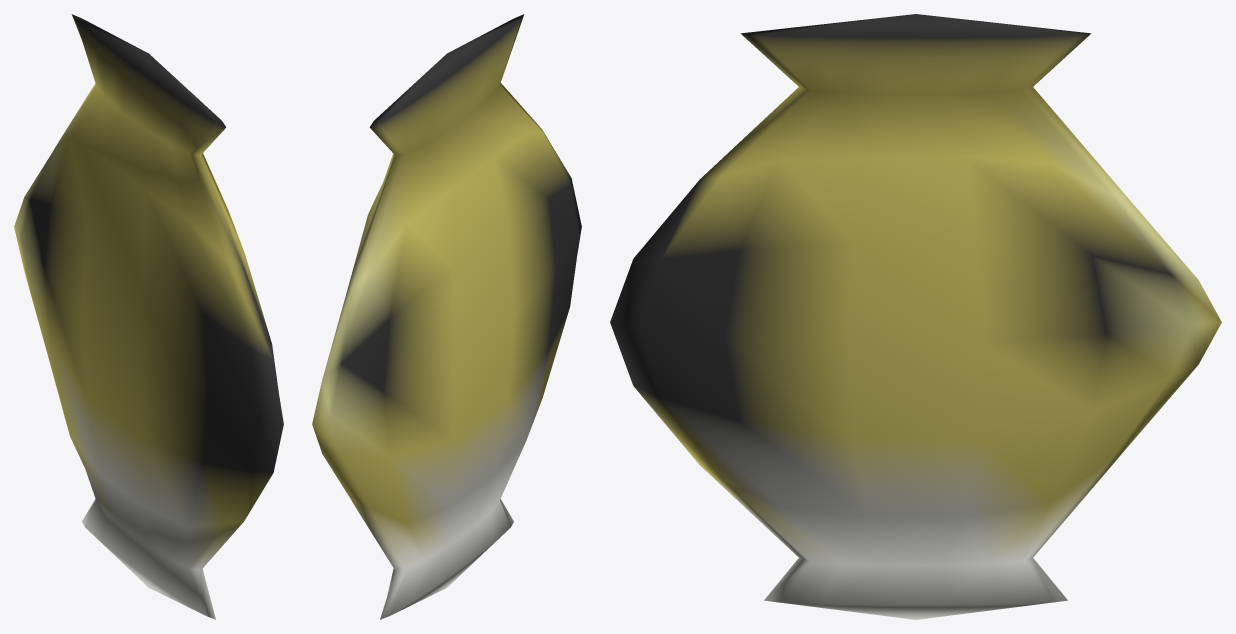
File: butterflyfish.glb
The picture shows the model from 3 angles, left to right: view 1: azimuth 30°, elevation 25°; view 2: azimuth 150°, elevation 25°; view 3: azimuth 270°, elevation 25°; orthographic projection. The views are drawn at different scales.
Parts seen in each view (by area): view 1: butterflyfish; view 2: butterflyfish; view 3: butterflyfish.
Part boxes in pixels (left/top/right/bottom): butterflyfish: left=14, top=14, right=283, bottom=619; butterflyfish: left=312, top=14, right=581, bottom=619; butterflyfish: left=610, top=14, right=1221, bottom=619.
Size of the model in its own units: 0.0409 by 0.283 by 0.259.
